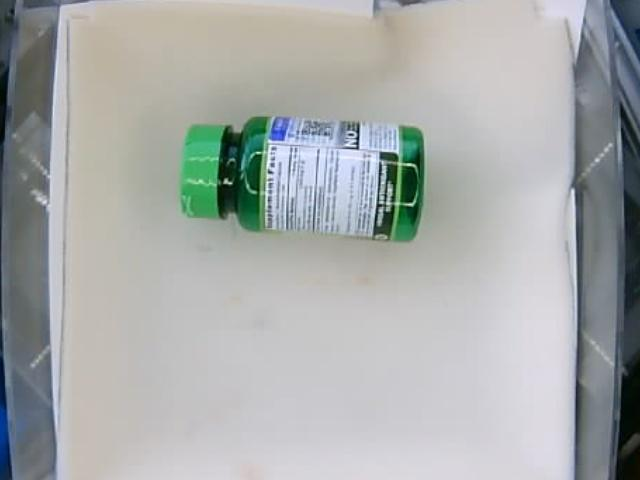Bottle: (185, 115, 428, 244)
